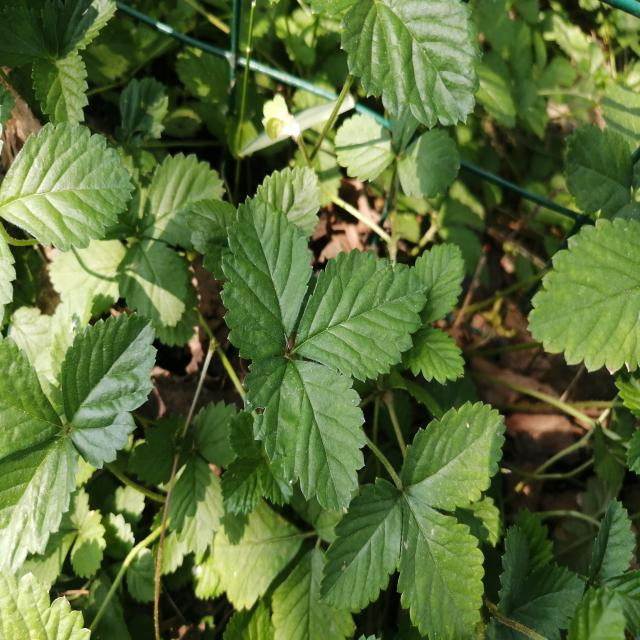Mock_strawberry: (307, 398, 526, 630)
